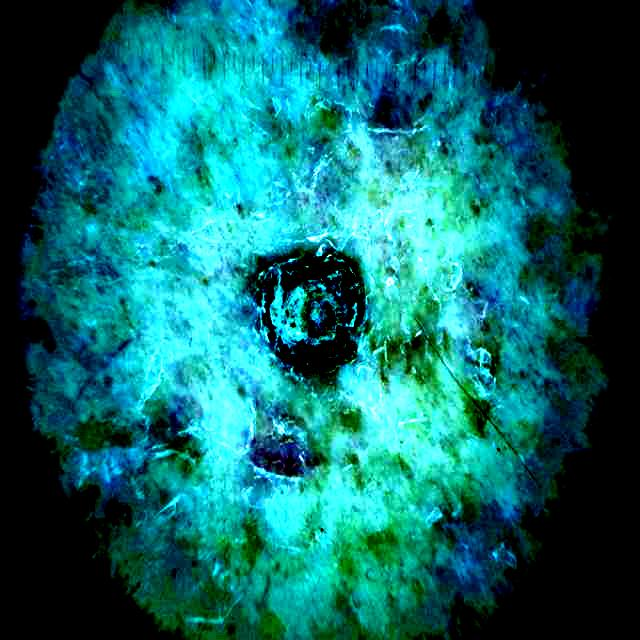AKIEC: (256, 253, 368, 373)
